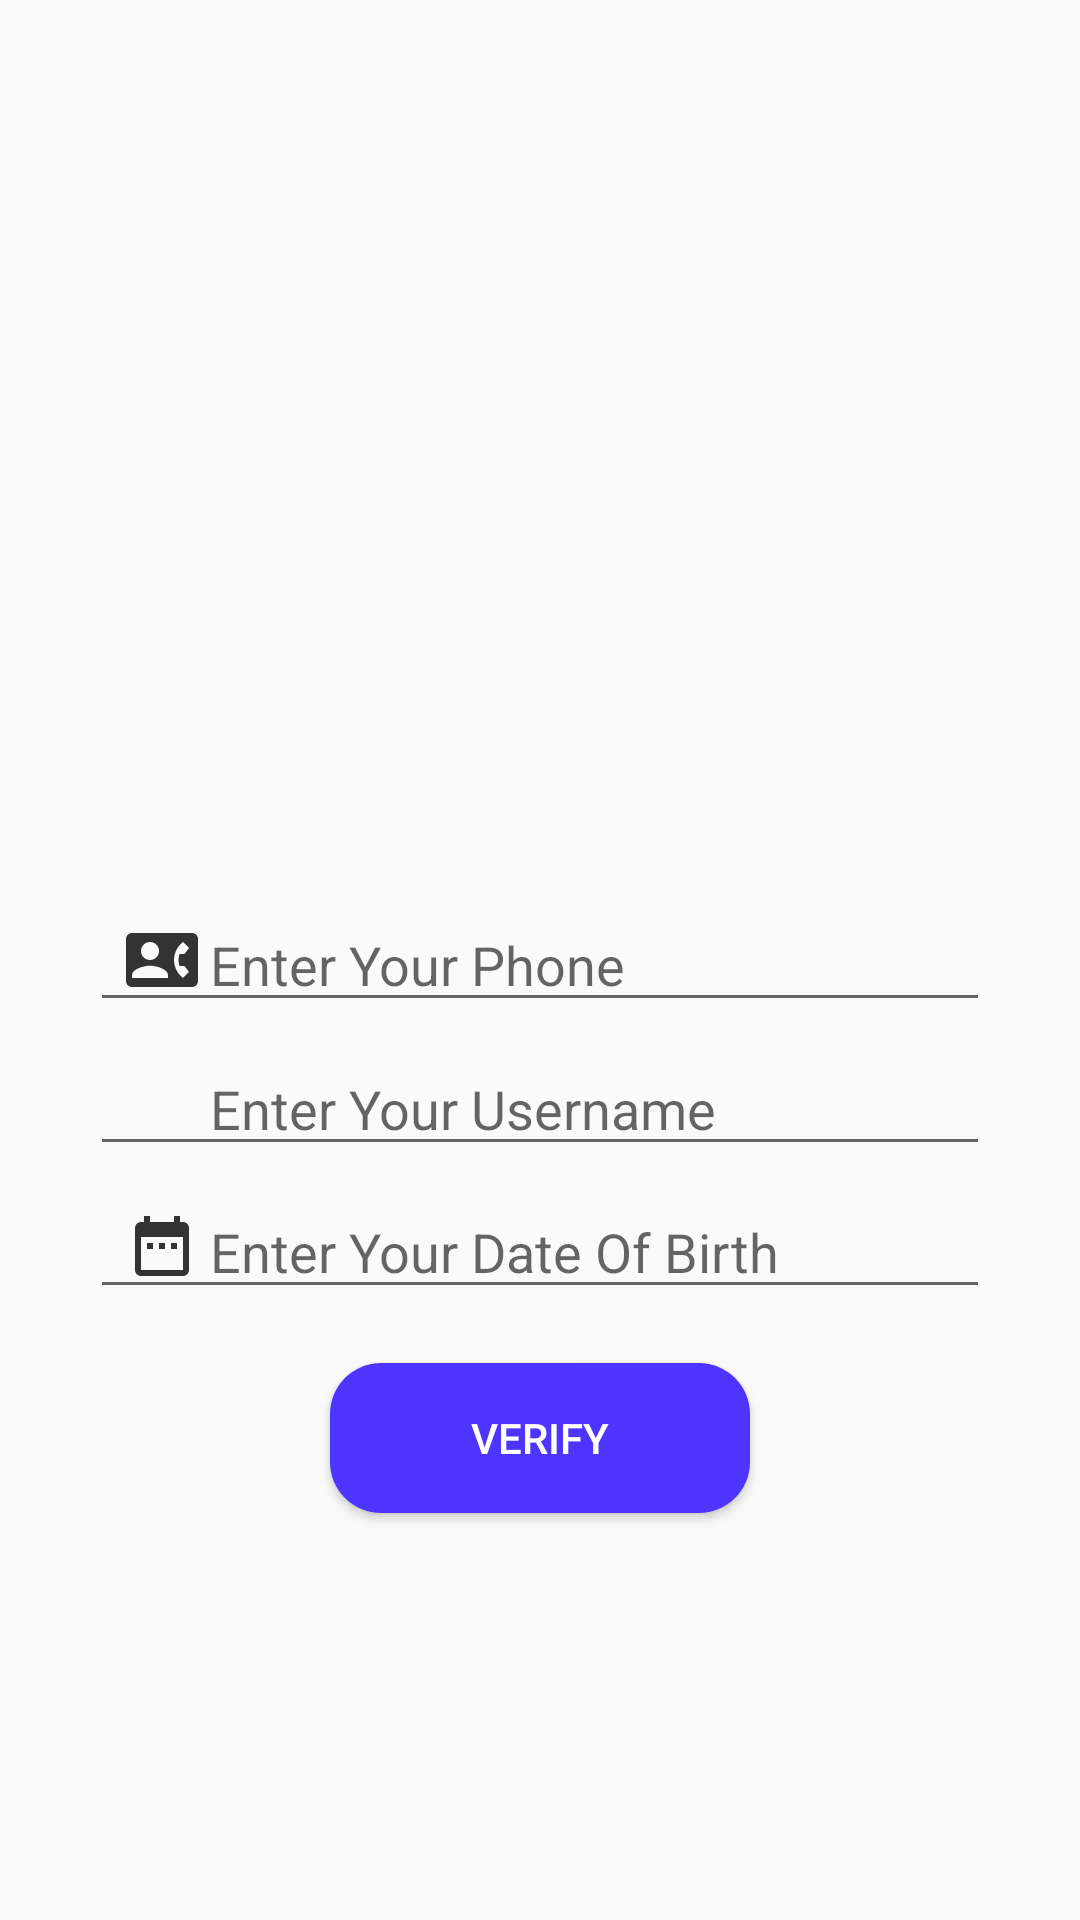

Where to tap for icons on this 1080*1920 app screen, as (x,y):
contact phone: (162,960)
